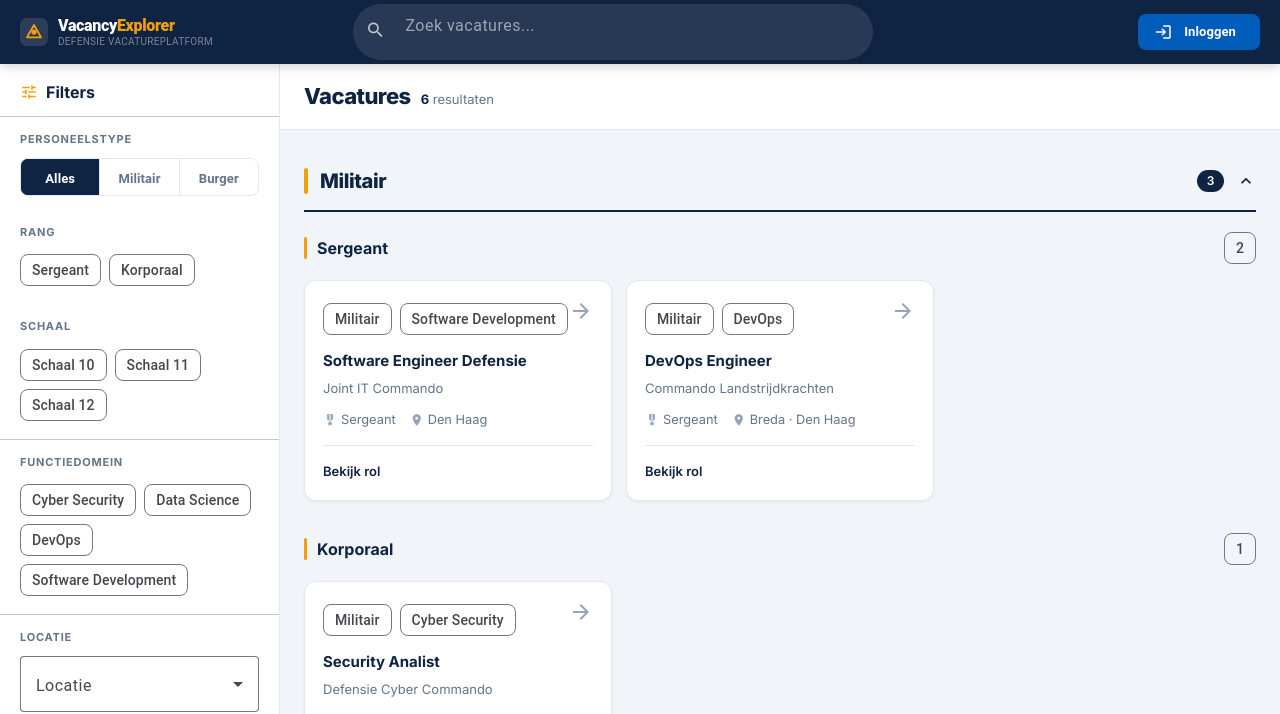
Test: Vacancy overview – search › restores all results when the search is cleared
The width and height of the screenshot is (1280, 714).
Check: the element with test id "vacancy-card" that starts with "Militair" is shown, box [304,280,612,501]
Type "Data Scientist" into the search field with test id "search-input" at x=631, y=26, box [405,14,857,38]
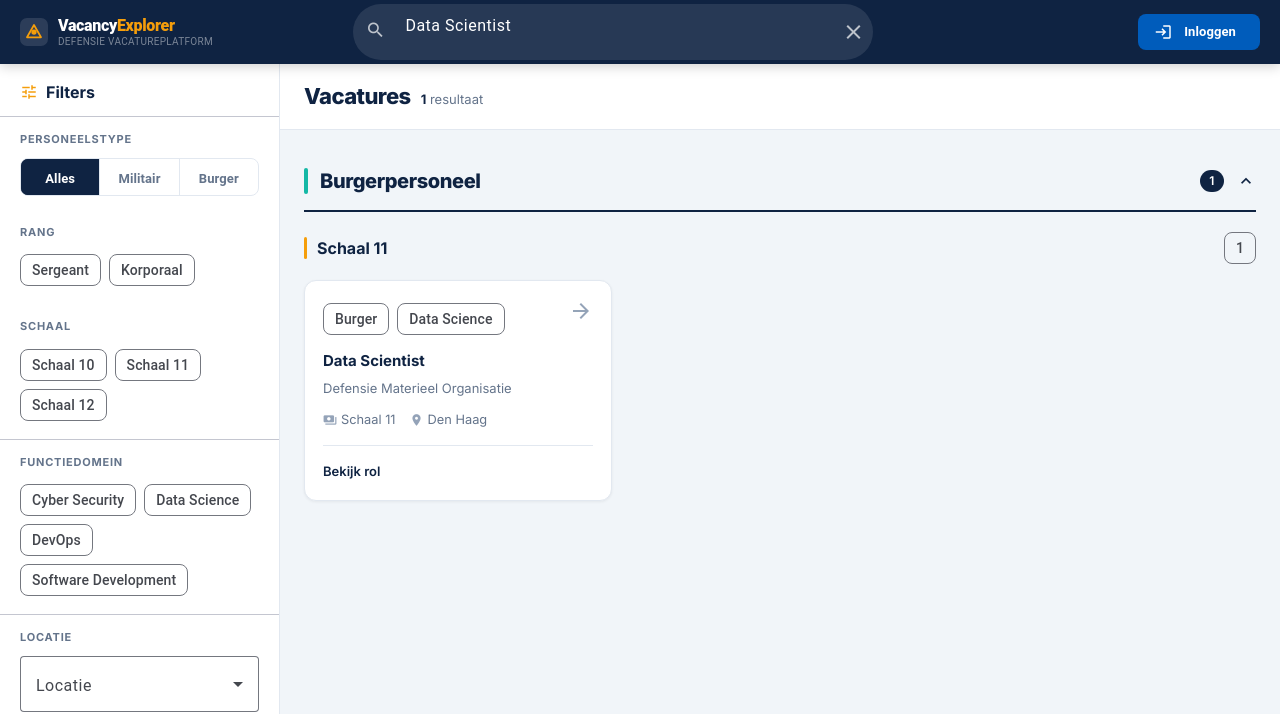
Check: the text with test id "results-count-value" reads "1", box [421,91,427,107]
Click the button with test id "search-clear" at x=853, y=32, box [833,12,873,52]
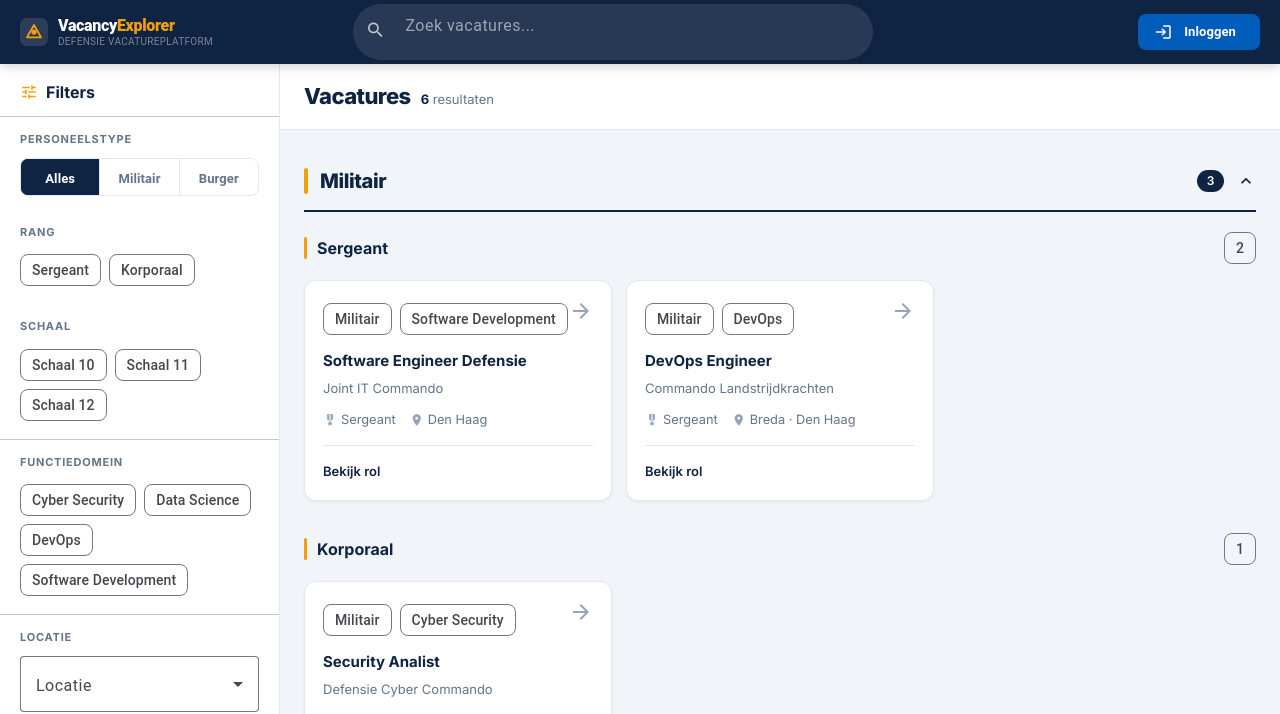
Check: the text with test id "results-count-value" reads "6", box [421,91,430,107]
